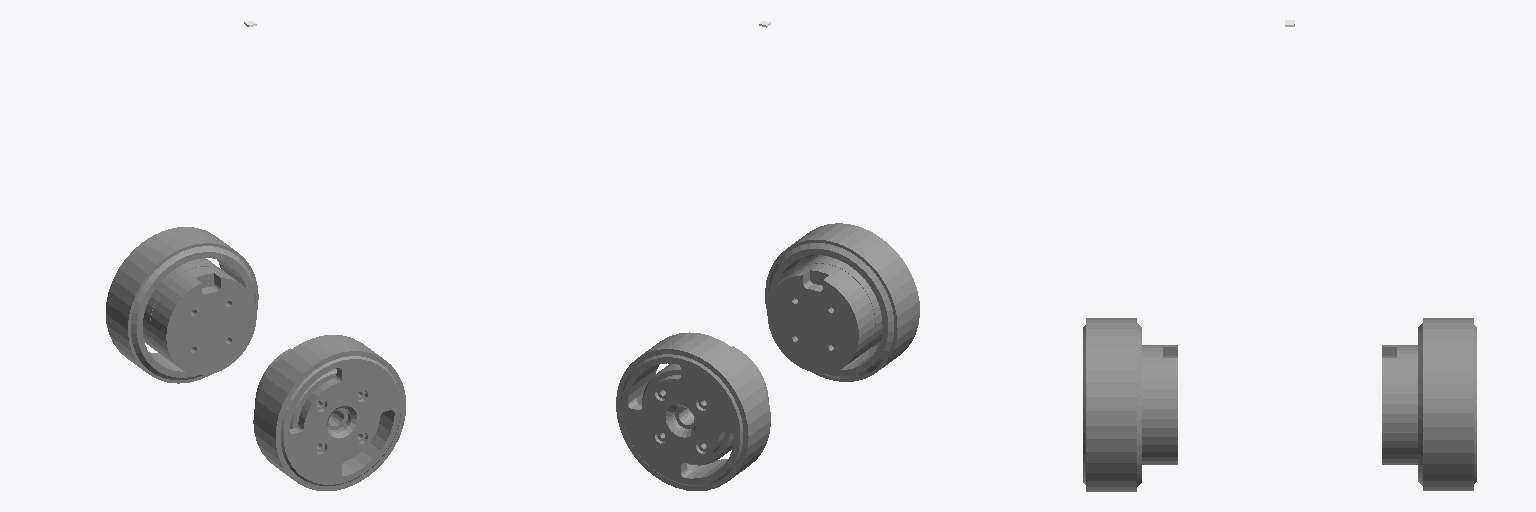
robot.urdf — bot_balancing_urdf:
<?xml version="1.0" encoding="utf-8"?>
<!-- This URDF was automatically created by SolidWorks to URDF Exporter! Originally created by Stephen Brawner (brawner@gmail.com) 
     Commit Version: 1.6.0-4-g7f85cfe  Build Version: 1.6.7995.38578
     For more information, please see http://wiki.ros.org/sw_urdf_exporter -->
<robot
  name="bot_balancing_urdf">
  <link
    name="base_link">
    <inertial>
      <origin
        xyz="-0.029555 0.0010924 0.066402"
        rpy="0 0 0" />
      <mass
        value="0.47562" />
      <inertia
        ixx="0.00071578"
        ixy="8.5923E-08"
        ixz="-6.0278E-07"
        iyy="0.00056287"
        iyz="-2.1368E-05"
        izz="0.00025839" />
    </inertial>
    <visual>
      <origin
        xyz="0 0 0"
        rpy="0 0 0" />
      <geometry>
        <mesh
          filename="package://bot_balancing_urdf/meshes/base_link.STL" />
      </geometry>
      <material
        name="">
        <color
          rgba="1 1 1 1" />
      </material>
    </visual>
    <collision>
      <origin
        xyz="0 0 0"
        rpy="0 0 0" />
      <geometry>
        <mesh
          filename="package://bot_balancing_urdf/meshes/base_link.STL" />
      </geometry>
    </collision>
  </link>
  <link
    name="left_wheel_link">
    <inertial>
      <origin
        xyz="-6.1778E-05 0.0050586 -0.00013691"
        rpy="0 0 0" />
      <mass
        value="0.09497" />
      <inertia
        ixx="2.7568E-05"
        ixy="2.8058E-10"
        ixz="-5.9888E-07"
        iyy="4.9481E-05"
        iyz="3.3169E-08"
        izz="2.7722E-05" />
    </inertial>
    <visual>
      <origin
        xyz="0 0 0"
        rpy="0 0 0" />
      <geometry>
        <mesh
          filename="package://bot_balancing_urdf/meshes/left_wheel_link.STL" />
      </geometry>
      <material
        name="">
        <color
          rgba="0.62745 0.62745 0.62745 1" />
      </material>
    </visual>
    <collision>
      <origin
        xyz="0 0 0"
        rpy="0 0 0" />
      <geometry>
        <mesh
          filename="package://bot_balancing_urdf/meshes/left_wheel_link.STL" />
      </geometry>
    </collision>
  </link>
  <joint
    name="left_wheel_joint"
    type="continuous">
    <origin
      xyz="0.000111150824011627 -0.0651550333222031 -0.0263979454183765"
      rpy="0 0 0" />
    <parent
      link="base_link" />
    <child
      link="left_wheel_link" />
    <axis
      xyz="0 1 0" />
  </joint>
  <link
    name="right_wheel_link">
    <inertial>
      <origin
        xyz="-0.00013959 0.12754 -0.00011825"
        rpy="0 0 0" />
      <mass
        value="0.09497" />
      <inertia
        ixx="2.7563E-05"
        ixy="-2.8178E-10"
        ixz="5.9886E-07"
        iyy="4.9481E-05"
        iyz="-3.2608E-08"
        izz="2.7727E-05" />
    </inertial>
    <visual>
      <origin
        xyz="0 0 0"
        rpy="0 0 0" />
      <geometry>
        <mesh
          filename="package://bot_balancing_urdf/meshes/right_wheel_link.STL" />
      </geometry>
      <material
        name="">
        <color
          rgba="0.62745 0.62745 0.62745 1" />
      </material>
    </visual>
    <collision>
      <origin
        xyz="0 0 0"
        rpy="0 0 0" />
      <geometry>
        <mesh
          filename="package://bot_balancing_urdf/meshes/right_wheel_link.STL" />
      </geometry>
    </collision>
  </link>
  <joint
    name="right_wheel_joint"
    type="continuous">
    <origin
      xyz="0.000111150824011627 -0.0651550333222031 -0.0263979454183765"
      rpy="0 0 0" />
    <parent
      link="base_link" />
    <child
      link="right_wheel_link" />
    <axis
      xyz="0 1 0" />
  </joint>
  <link
    name="imu_link">
    <inertial>
      <origin
        xyz="2.3004E-06 2.3121E-06 -0.00046634"
        rpy="0 0 0" />
      <mass
        value="1.492E-05" />
      <inertia
        ixx="1.9902E-11"
        ixy="3.4744E-15"
        ixz="4.6387E-15"
        iyy="1.9902E-11"
        iyz="4.825E-15"
        izz="3.8172E-11" />
    </inertial>
    <visual>
      <origin
        xyz="0 0 0"
        rpy="0 0 0" />
      <geometry>
        <mesh
          filename="package://bot_balancing_urdf/meshes/imu_link.STL" />
      </geometry>
      <material
        name="">
        <color
          rgba="1 1 1 1" />
      </material>
    </visual>
    <collision>
      <origin
        xyz="0 0 0"
        rpy="0 0 0" />
      <geometry>
        <mesh
          filename="package://bot_balancing_urdf/meshes/imu_link.STL" />
      </geometry>
    </collision>
  </link>
  <joint
    name="imu_joint"
    type="fixed">
    <origin
      xyz="-0.000613606122671678 0.00501981392852723 0.139015"
      rpy="0 0 0" />
    <parent
      link="base_link" />
    <child
      link="imu_link" />
    <axis
      xyz="0 0 0" />
  </joint>
</robot>

--- Facts derived from the render (not from the file) ---
Views: 3 orthographic renders of the robot side by side, from view 1: azimuth 30°, elevation 25°; view 2: azimuth 150°, elevation 25°; view 3: azimuth 270°, elevation 25°.
Robot: bot_balancing_urdf — 4 links, 3 joints (2 continuous, 1 fixed); root link base_link; default pose: every joint at zero.
Links seen in each view (by area): view 1: left_wheel_link, right_wheel_link; view 2: left_wheel_link, right_wheel_link; view 3: left_wheel_link, right_wheel_link.
Link boxes in pixels (<box>): left_wheel_link: <box>253,335,405,490</box>; right_wheel_link: <box>106,227,258,383</box>; left_wheel_link: <box>765,223,919,381</box>; right_wheel_link: <box>616,332,770,490</box>; left_wheel_link: <box>1083,318,1177,491</box>; right_wheel_link: <box>1382,318,1476,490</box>.
Size in the robot's own frame: 0.0682 by 0.1546 by 0.1994 metres.
3 mesh visuals loaded from 4 distinct referenced files (3 binary STL); not drawn: 1 (reference not matched to a file when rendering).
